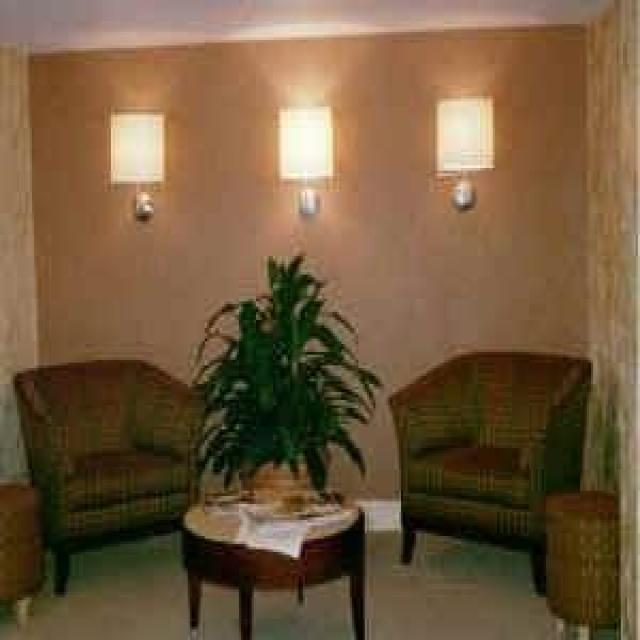curtains: (580, 0, 637, 637)
lamps: (433, 93, 495, 208), (278, 104, 340, 213), (109, 106, 164, 218)
plants: (188, 248, 382, 501)
sofa: (386, 347, 591, 592), (11, 354, 216, 594)
table: (179, 488, 367, 637)
